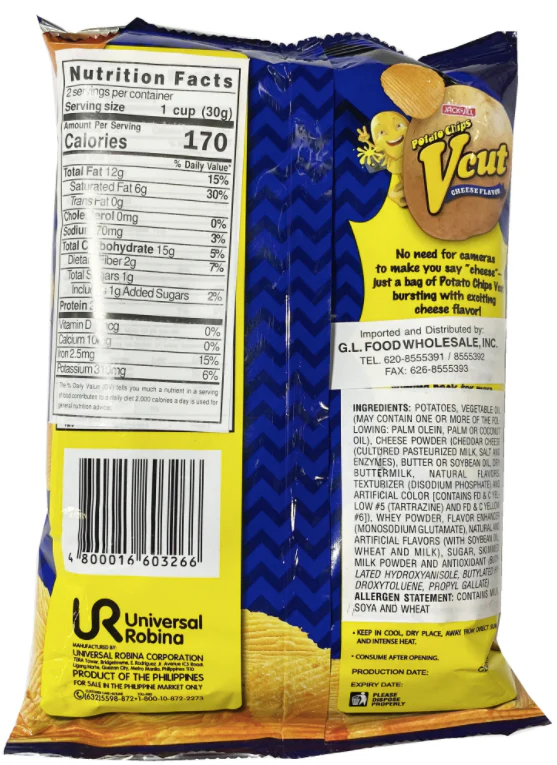non-toxic_waste: (35, 19, 547, 747)
